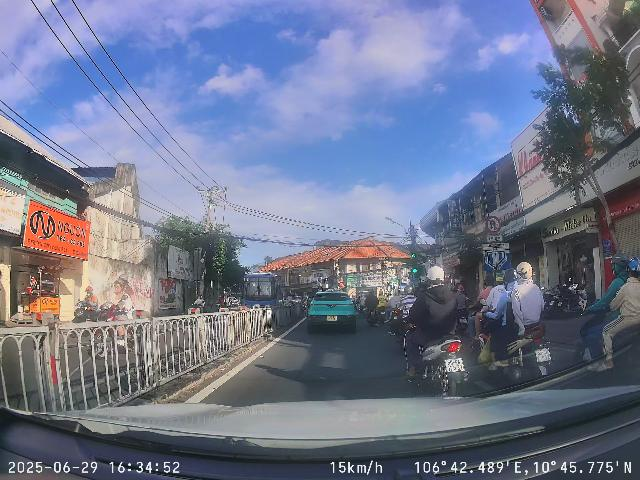124b-cam-oto-quay-dau-xe: (485, 215, 501, 233)
